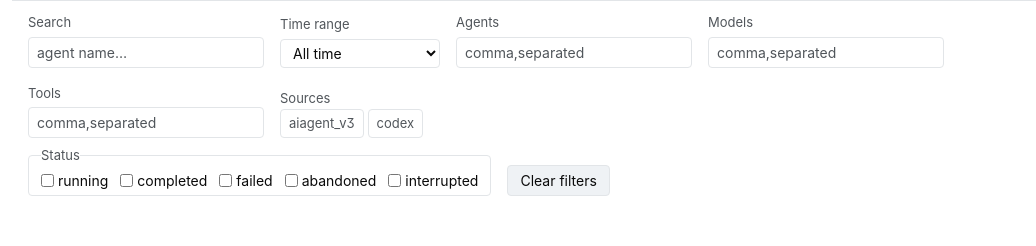
Scenario: FilterBar › clicking a source chip toggles the sources param
Click the button "aiagent_v3" at (322, 123), box [280, 108, 364, 138]
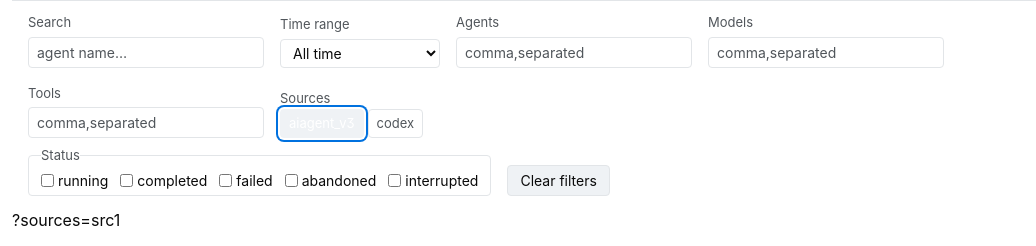
Expected: the text with test id "loc" shows "sources=", [12, 210, 120, 230]
